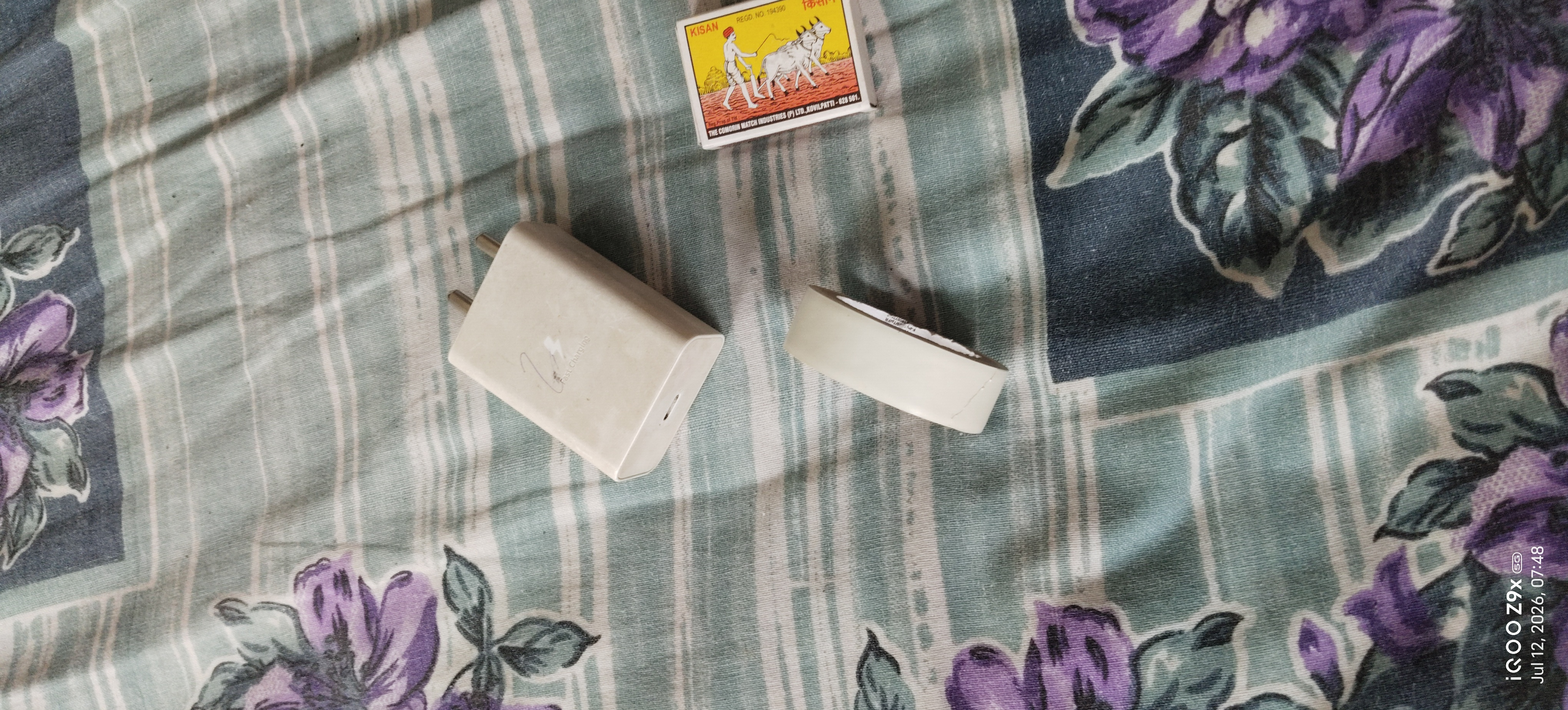charger: (417, 201, 744, 521)
matchbox: (656, 0, 905, 194)
tape_roll: (767, 246, 1028, 488)
